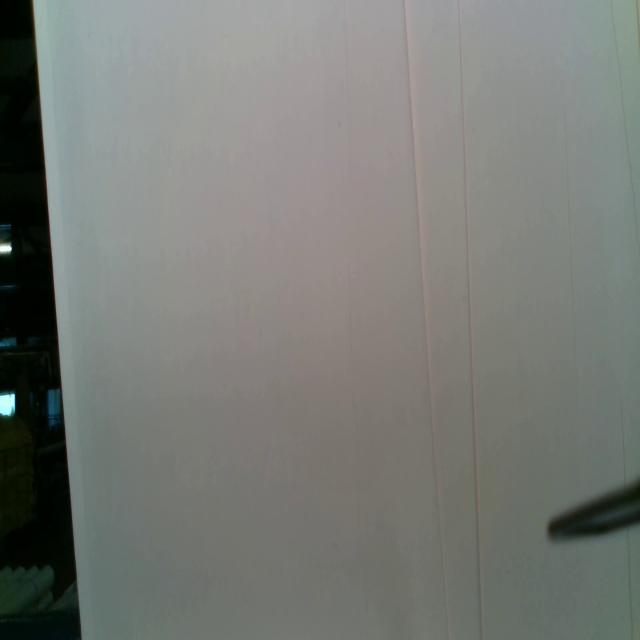crease: (402, 0, 449, 640), (456, 0, 483, 640), (608, 0, 639, 249), (561, 119, 579, 380), (624, 526, 635, 640), (618, 394, 627, 486)
